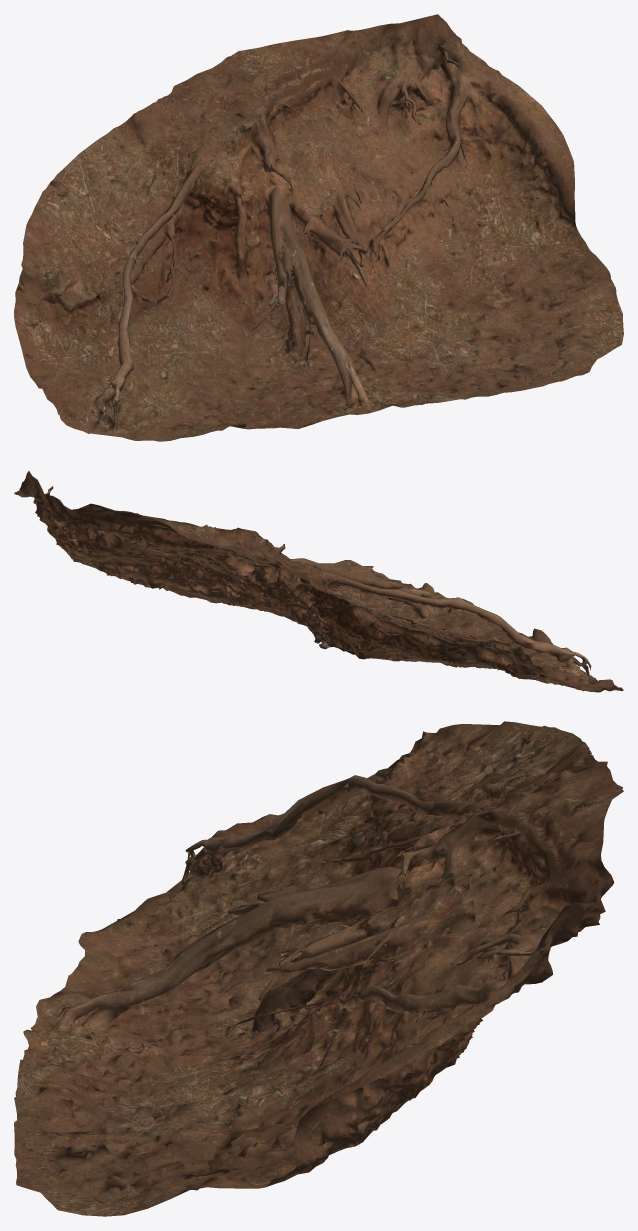
Rendered from root_cluster_01.glb.
The picture shows the model from 3 angles, top to bottom: view 1: azimuth 30°, elevation 25°; view 2: azimuth 150°, elevation 25°; view 3: azimuth 270°, elevation 25°; orthographic projection. The views are drawn at different scales.
Parts seen in each view (by area): view 1: root_cluster_01; view 2: root_cluster_01; view 3: root_cluster_01.
Boxes of the visible parts, bbox=[...] form: root_cluster_01: bbox=[14, 14, 623, 441]; root_cluster_01: bbox=[14, 471, 623, 692]; root_cluster_01: bbox=[14, 721, 623, 1216].
Size of the model in its own units: 4.12 by 1.51 by 2.68.
Materials: 1 (1 with a texture image).
